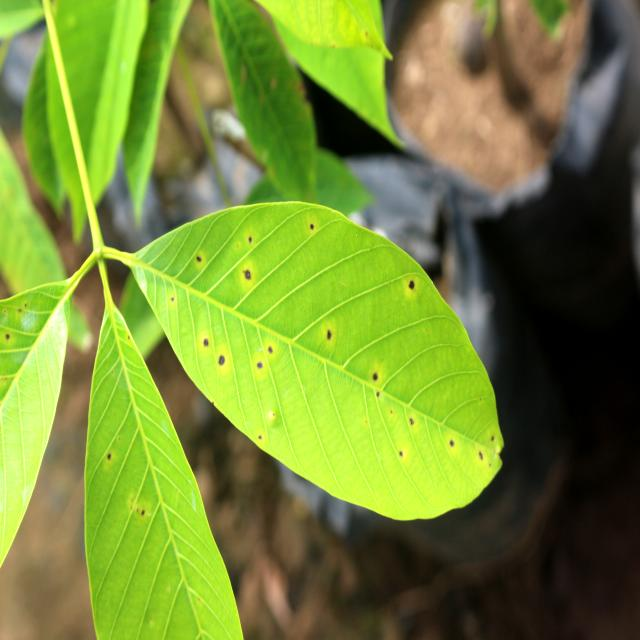Colletotrichum: (245, 270, 251, 280), (409, 280, 415, 290), (218, 356, 225, 364)
